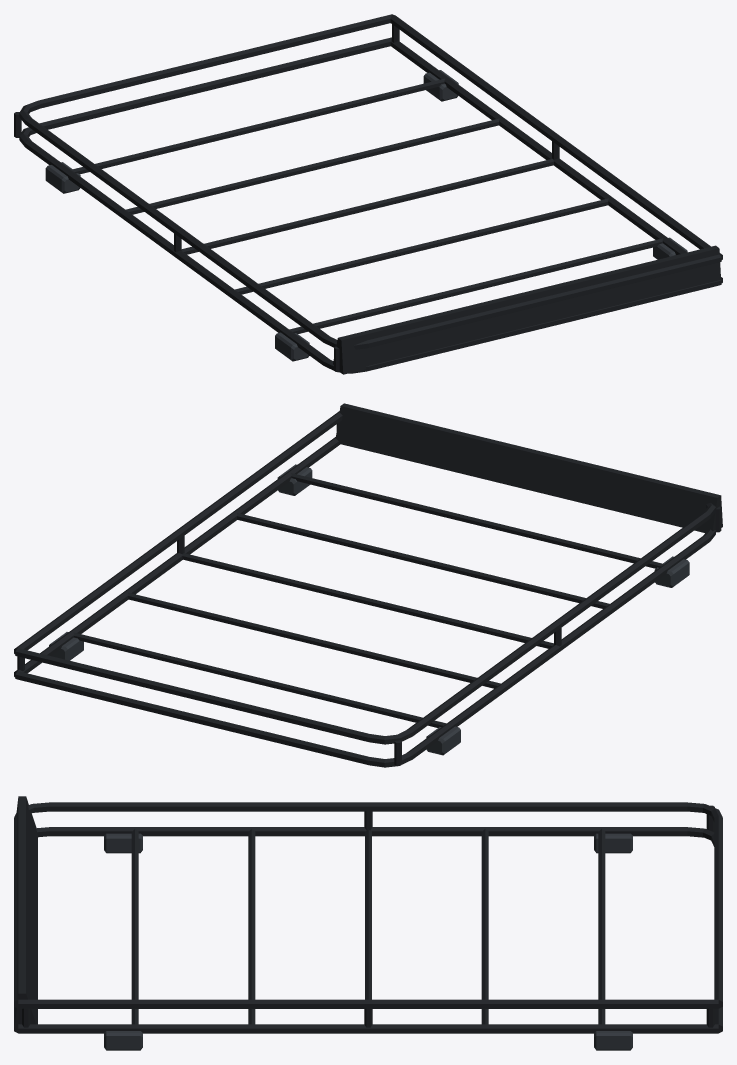
Rendered from ridgeback_4x4_roof_rack.glb.
3 views of the same model, one above another, from view 1: azimuth 30°, elevation 25°; view 2: azimuth 150°, elevation 25°; view 3: azimuth 270°, elevation 25° (orthographic). The views are drawn at different scales.
Parts seen in each view (by area): view 1: model; view 2: model; view 3: model.
Part boxes in pixels (x1,y1,x2,y2): model: [14, 14, 722, 374]; model: [14, 403, 722, 767]; model: [14, 796, 722, 1050].
Bounding box in the file's own units: 1.26 × 0.15 × 1.82.
Materials: 1 (1 with a texture image).
